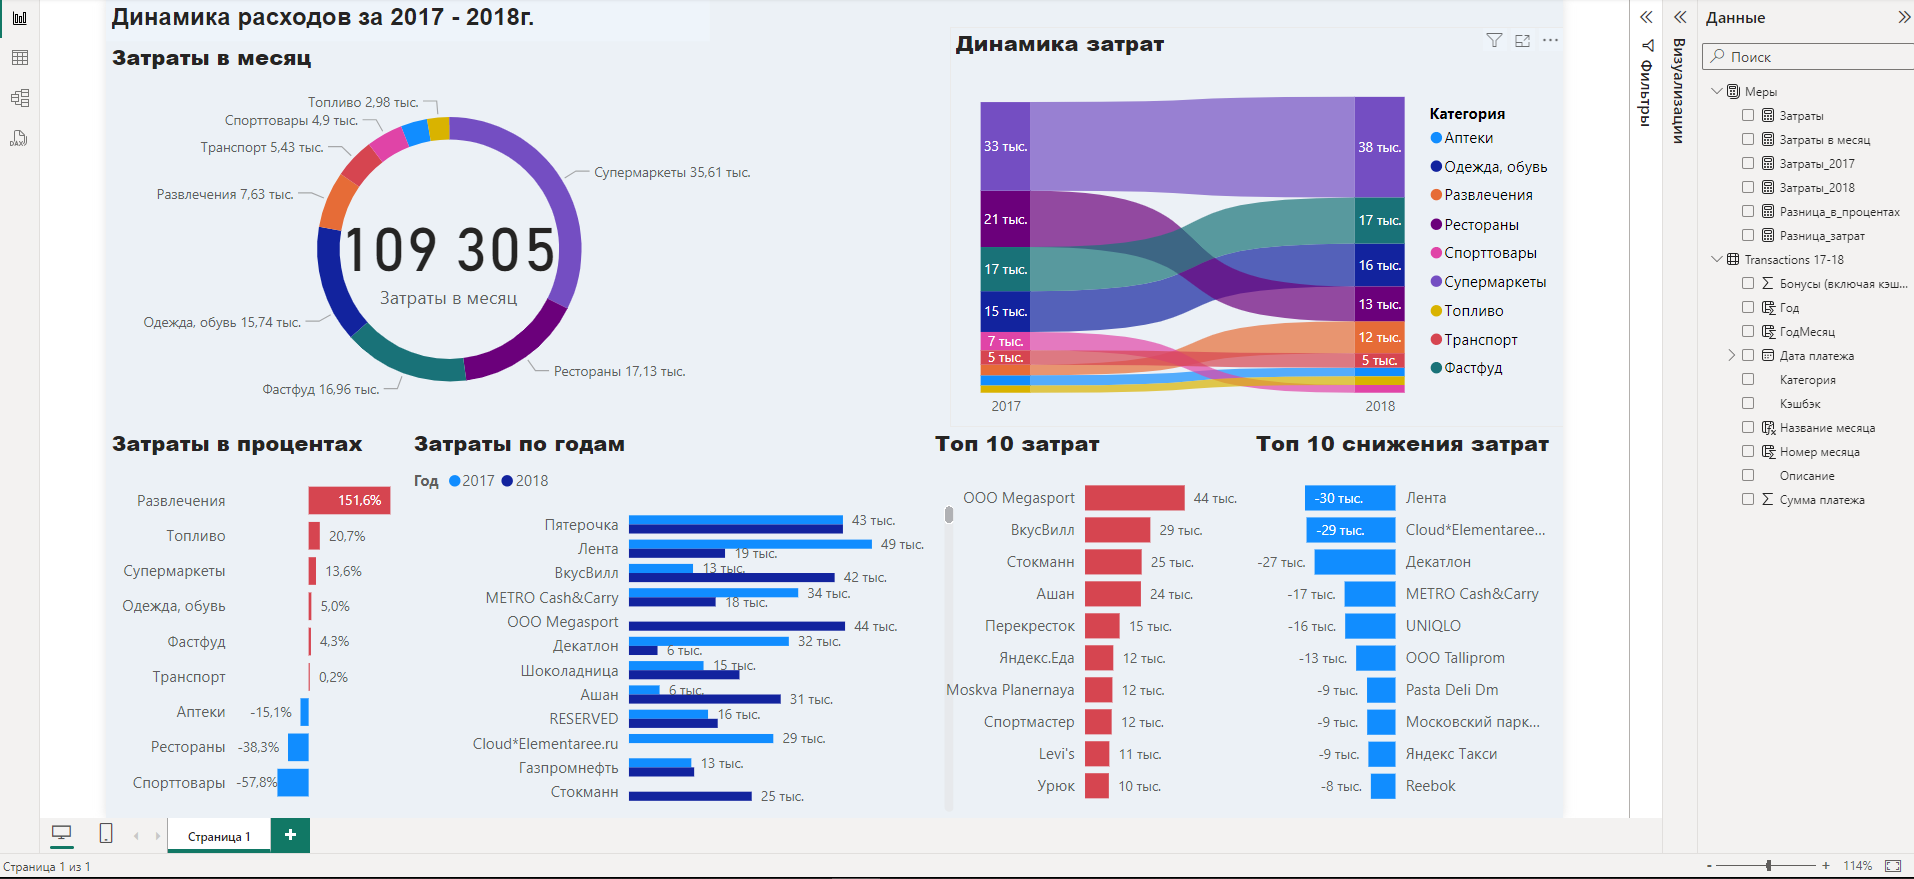

This screenshot's page, from the dashboard's own definition file:
{"tool":"powerbi","page":{"name":"Страница 1","canvas":[1280,720],"ordinal":0},"visuals":[{"type":"donutChart","title":"Затраты в месяц","fields":{"Category":["Transactions 17-18.Категория"],"Y":["Меры.Затраты в месяц"]},"box":[21.1,16.7,660.3,341.6],"z":0,"group":"g1"},{"type":"ribbonChart","title":"Динамика затрат","fields":{"Y":["Меры.Затраты в месяц"],"Series":["Transactions 17-18.Категория"],"Category":["Transactions 17-18.Год"]},"box":[702.4,15.8,567.2,343.3],"z":0},{"type":"card","fields":{"Values":["Меры.Затраты в месяц"]},"box":[231.6,145.7,228.7,101.4],"z":1000,"group":"g1"},{"type":"clusteredBarChart","title":"Затраты в процентах","fields":{"Category":["Transactions 17-18.Категория"],"Y":["Меры.Разница_в_процентах"]},"box":[1080.9,367,188.8,344.2],"z":1000},{"type":"clusteredBarChart","title":"Затраты по годам","fields":{"Y":["Меры.Затраты"],"Category":["Transactions 17-18.Описание"],"Series":["Transactions 17-18.Год"]},"box":[21.1,367.9,460.1,343.3],"z":2000},{"type":"clusteredBarChart","title":"Топ 10 затрат","fields":{"Y":["Меры.Разница_затрат"],"Category":["Transactions 17-18.Описание"]},"box":[496.1,367.9,275.7,343.3],"z":3000},{"type":"group","id":"g1","title":"Группа 1","box":[21.1,16.7,660.3,341.6],"z":4000},{"type":"clusteredBarChart","title":"Топ 10 снижения затрат","fields":{"Y":["Меры.Разница_затрат"],"Category":["Transactions 17-18.Описание"]},"box":[790.2,367,275.7,344.2],"z":5000}]}

Visuals, with their boxes on the page's 1280x720 design canvas (x1, y1, x2, y2). These are canvas units, not pixel positions in the 1914x879 screenshot, which may show the page scaled, cropped or inside an application window:
"Затраты в месяц" donutChart: locate(21, 17, 681, 358)
"Динамика затрат" ribbonChart: locate(702, 16, 1270, 359)
card - Меры.Затраты в месяц: locate(232, 146, 460, 247)
"Затраты в процентах" clusteredBarChart: locate(1081, 367, 1270, 711)
"Затраты по годам" clusteredBarChart: locate(21, 368, 481, 711)
"Топ 10 затрат" clusteredBarChart: locate(496, 368, 772, 711)
"Группа 1" group: locate(21, 17, 681, 358)
"Топ 10 снижения затрат" clusteredBarChart: locate(790, 367, 1066, 711)
